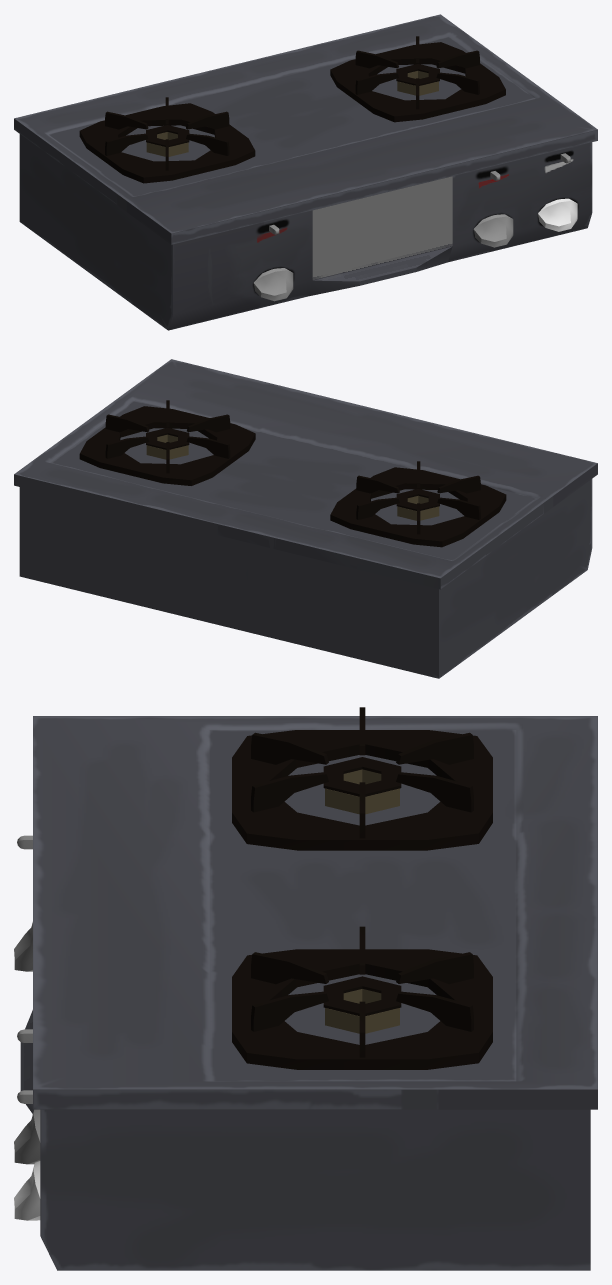
Rendered from rinnaiBurner.fbx.
The picture shows the model from 3 angles, top to bottom: view 1: azimuth 30°, elevation 25°; view 2: azimuth 150°, elevation 25°; view 3: azimuth 270°, elevation 25°; orthographic projection. The views are drawn at different scales.
Parts seen in each view (by area): view 1: Top, Base, Door, burner_1, burner, Tube, Button_2, Button, Button_1, Tube_4, Tube_3, bracket_2_3 (+7 smaller); view 2: Top, Base, burner, burner_1, Tube, Tube_4, Tube_3, bracket_2_3, bracket_3_2, bracket_3, bracket, bracket_2 (+3 smaller); view 3: Top, Base, burner, burner_1, Tube, Tube_4, Tube_3, bracket_4, bracket_4_2, bracket_3, bracket_3_2, bracket_2 (+6 smaller).
Boxes of the visible parts, box(x1,y1,x2,y2) form: Top: box(14, 14, 597, 244); Base: box(19, 134, 592, 330); Door: box(308, 176, 452, 296); burner_1: box(79, 103, 255, 183); burner: box(330, 42, 505, 122); Tube: box(146, 125, 189, 156); Button_2: box(253, 268, 293, 301); Button: box(473, 214, 513, 247); Button_1: box(538, 198, 577, 231); Tube_4: box(396, 64, 439, 85); Tube_3: box(397, 70, 438, 95); bracket_2_3: box(355, 72, 398, 94); Top: box(14, 359, 597, 589); Base: box(19, 479, 592, 678); burner: box(79, 406, 255, 485); burner_1: box(330, 467, 506, 547); Tube: box(396, 489, 439, 520); Tube_4: box(146, 427, 189, 449); Tube_3: box(146, 434, 188, 459); bracket_2_3: box(186, 436, 230, 458); bracket_3_2: box(105, 436, 149, 458); bracket_3: box(356, 497, 399, 519); bracket: box(437, 497, 480, 519); bracket_2: box(437, 475, 480, 493); Top: box(33, 716, 597, 1109); Base: box(40, 1109, 590, 1270); burner: box(232, 949, 492, 1069); burner_1: box(232, 730, 492, 850); Tube: box(323, 757, 401, 814); Tube_4: box(323, 976, 401, 1015); Tube_3: box(325, 989, 399, 1033); bracket_4: box(251, 772, 328, 812); bracket_4_2: box(251, 991, 328, 1031); bracket_3: box(396, 772, 473, 812); bracket_3_2: box(396, 991, 473, 1031); bracket_2: box(251, 732, 328, 764).
Size of the model in its own units: 61 by 16.6 by 40.32.
6 materials, 3 textured.
